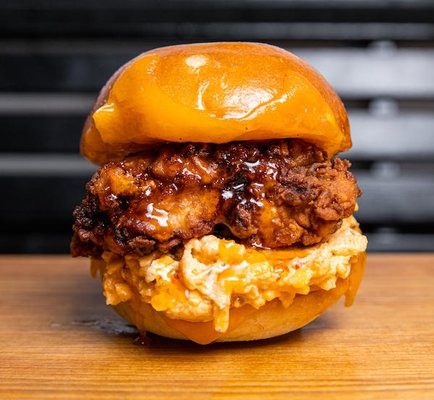soup: (75, 40, 368, 336)
